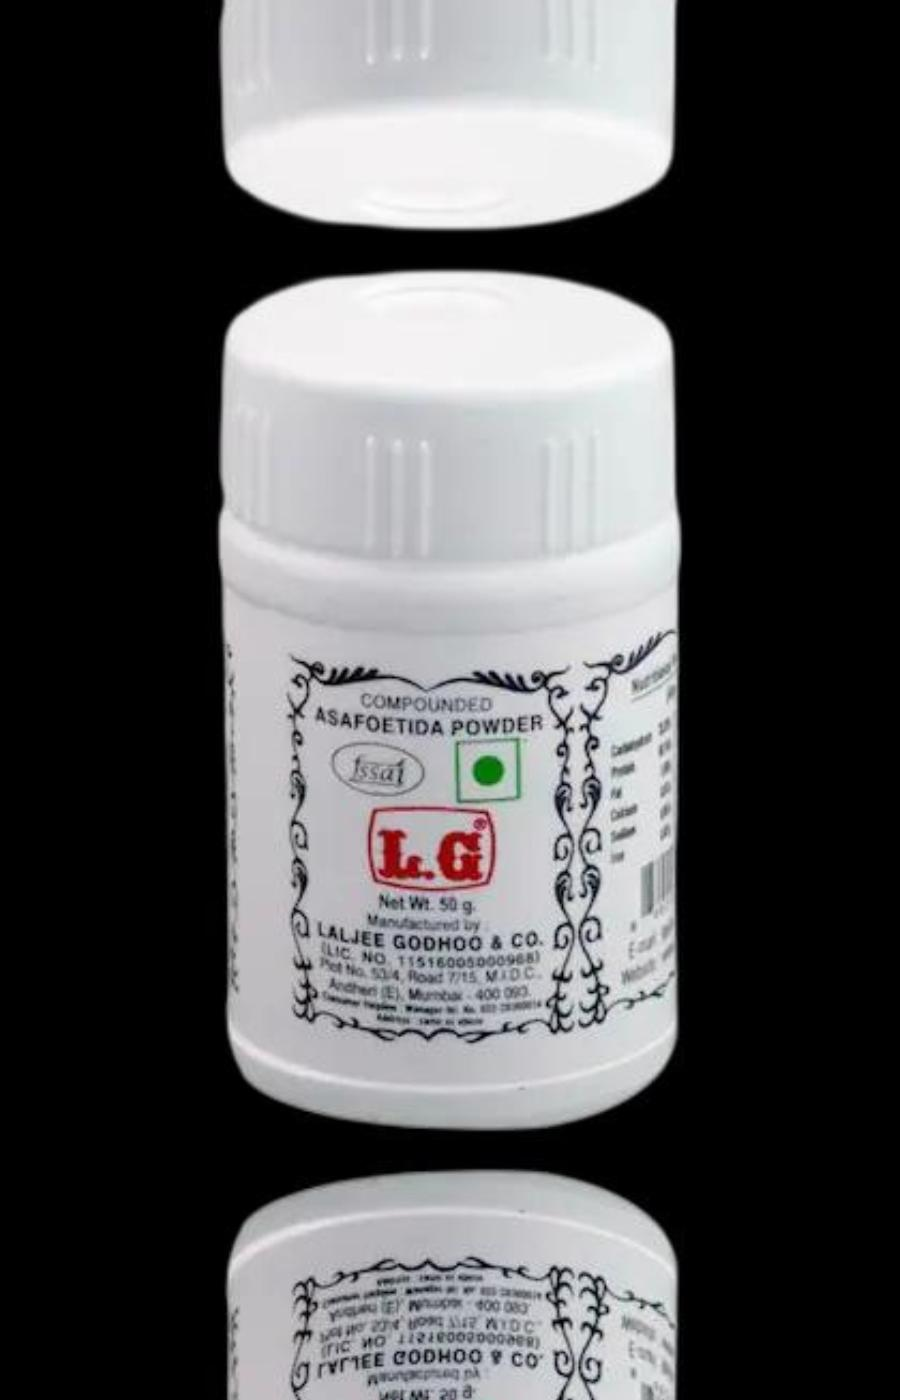LG Compounded Hing Powder 50 g: (211, 264, 695, 1130), (211, 0, 695, 235), (211, 1170, 695, 1400)
